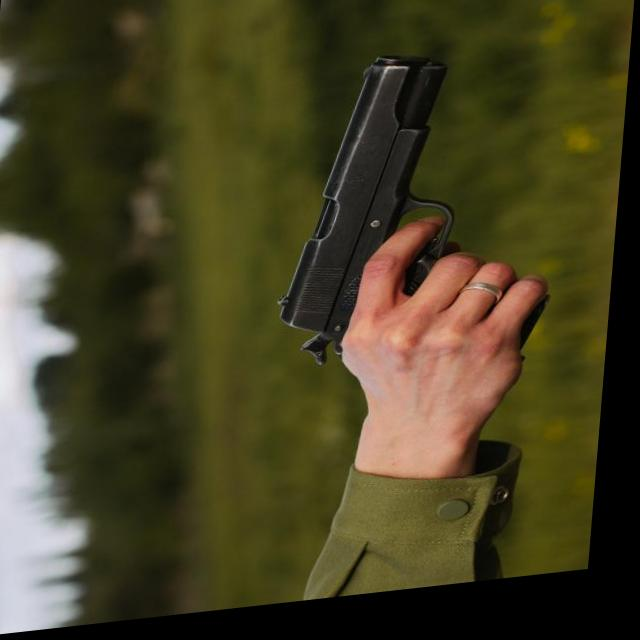handgun: (276, 56, 470, 378)
